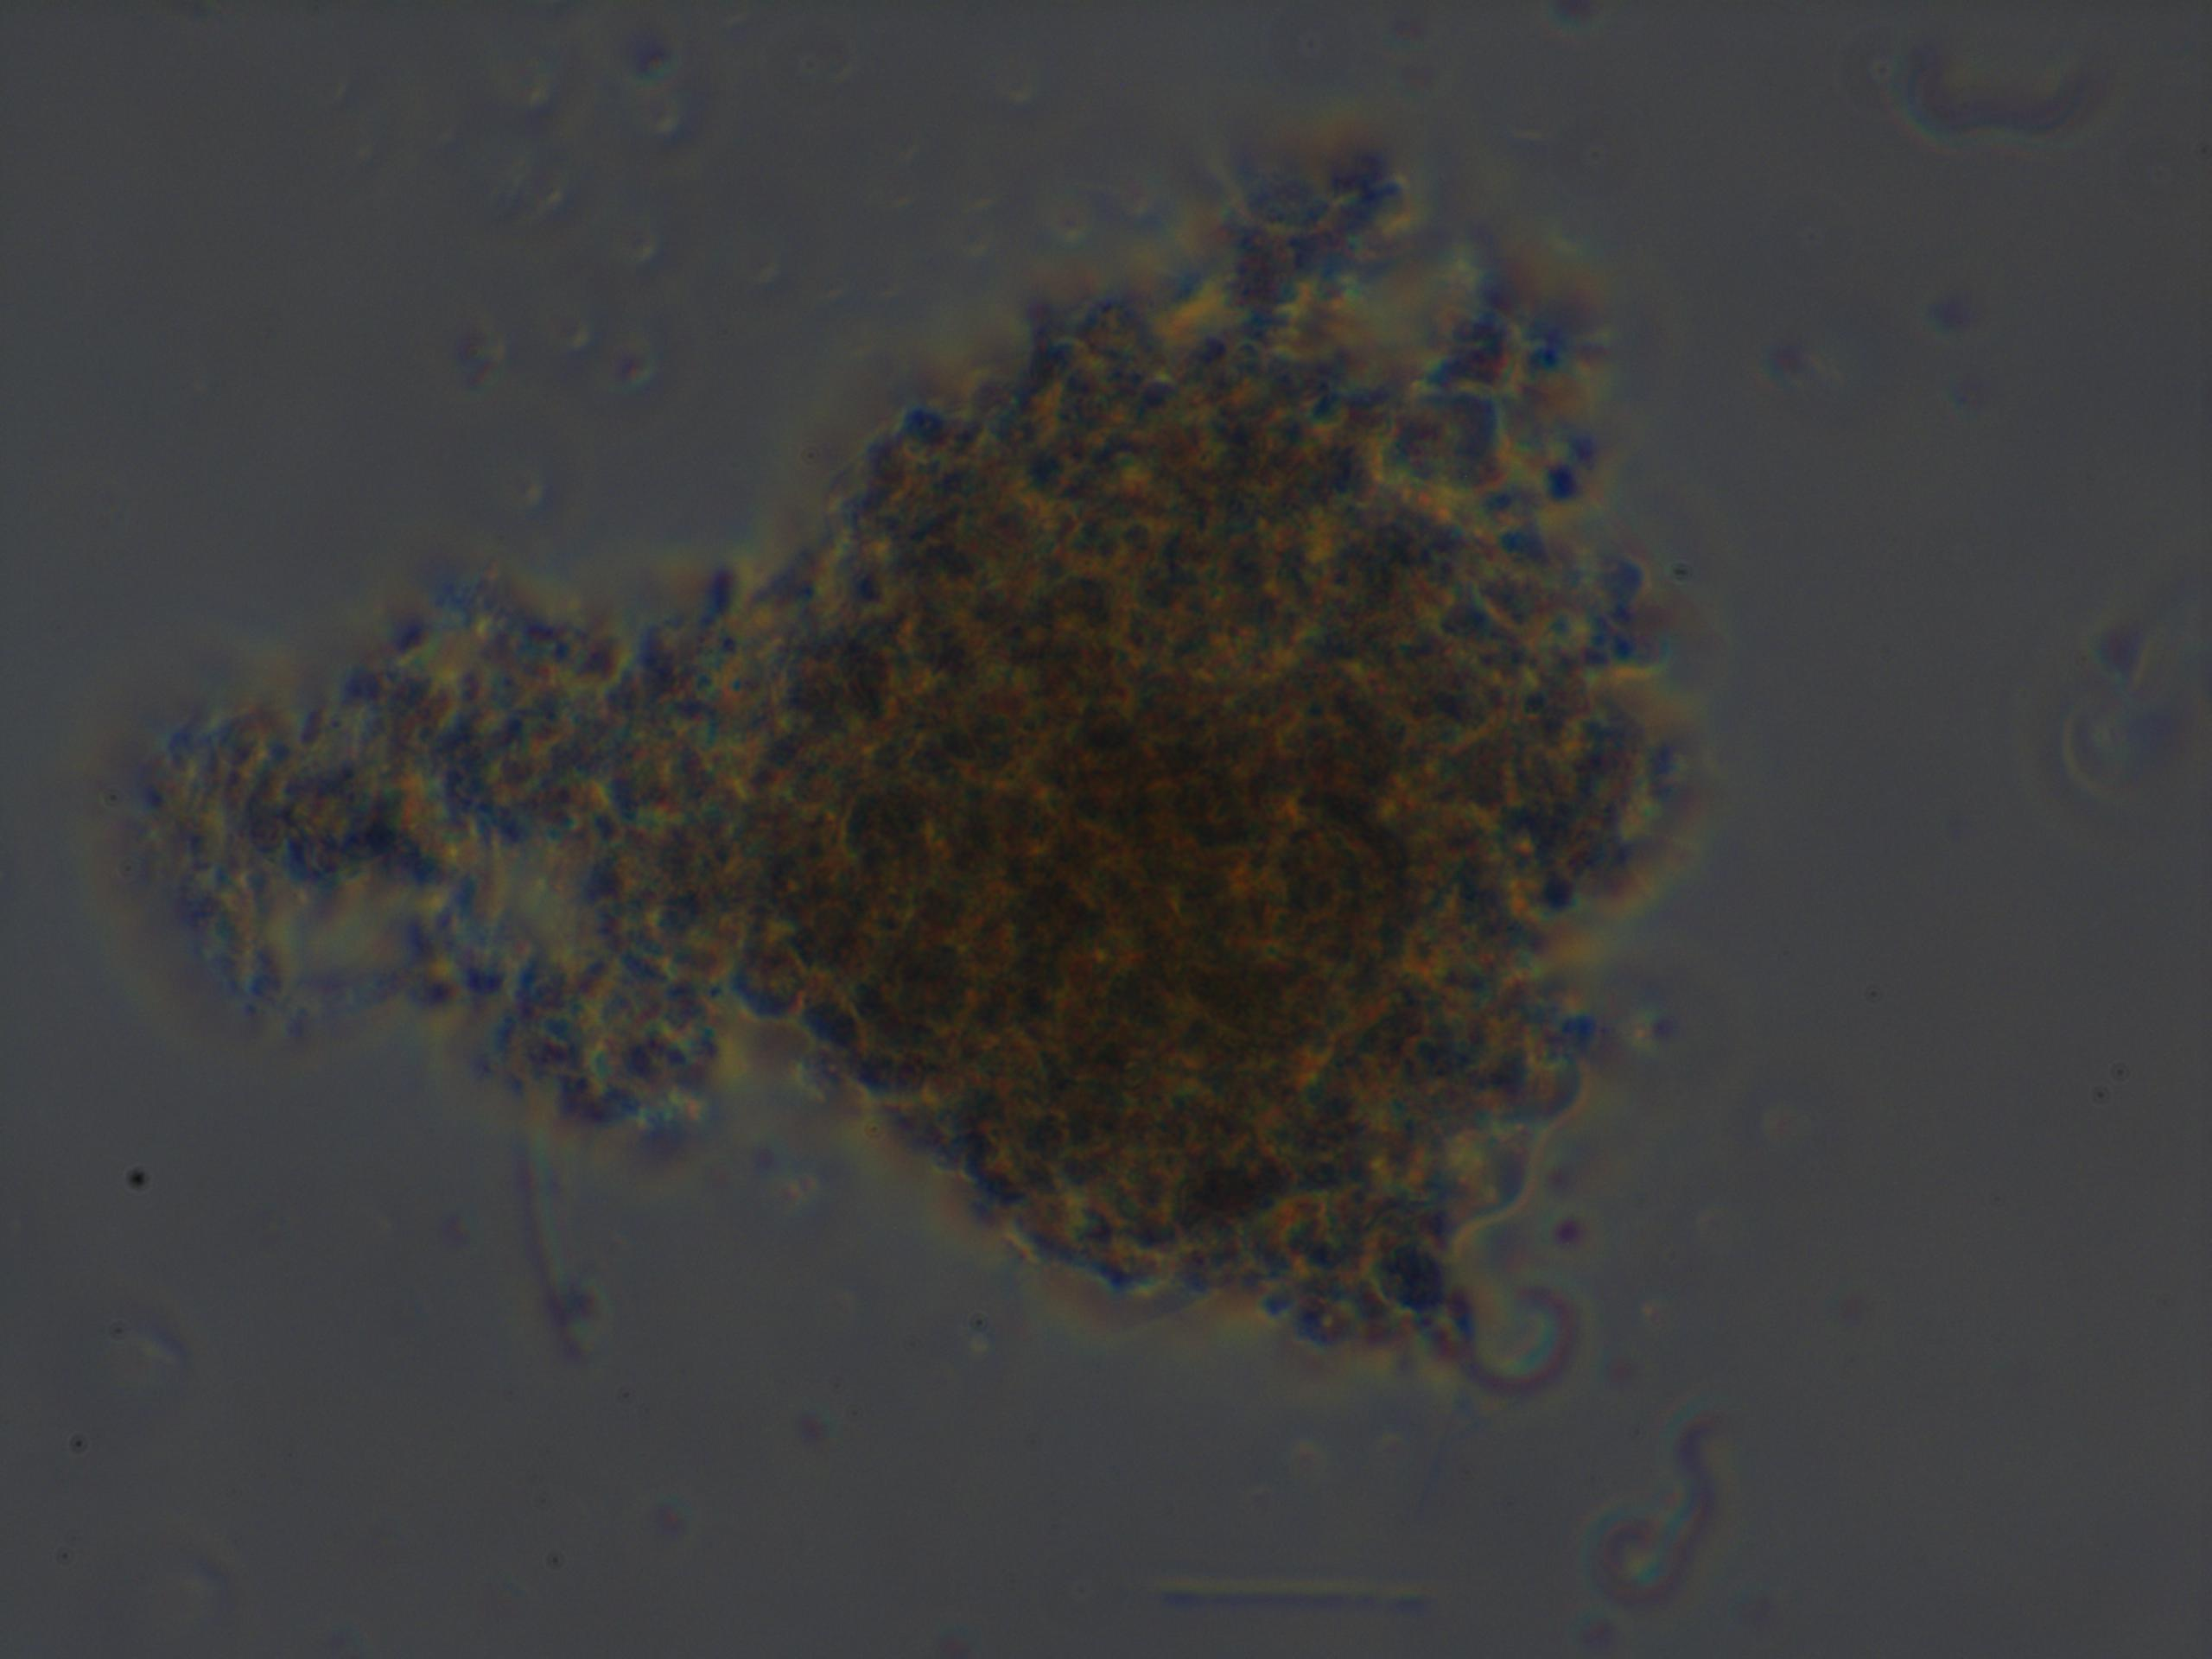spherical_floc: (698, 167, 1709, 1382)
